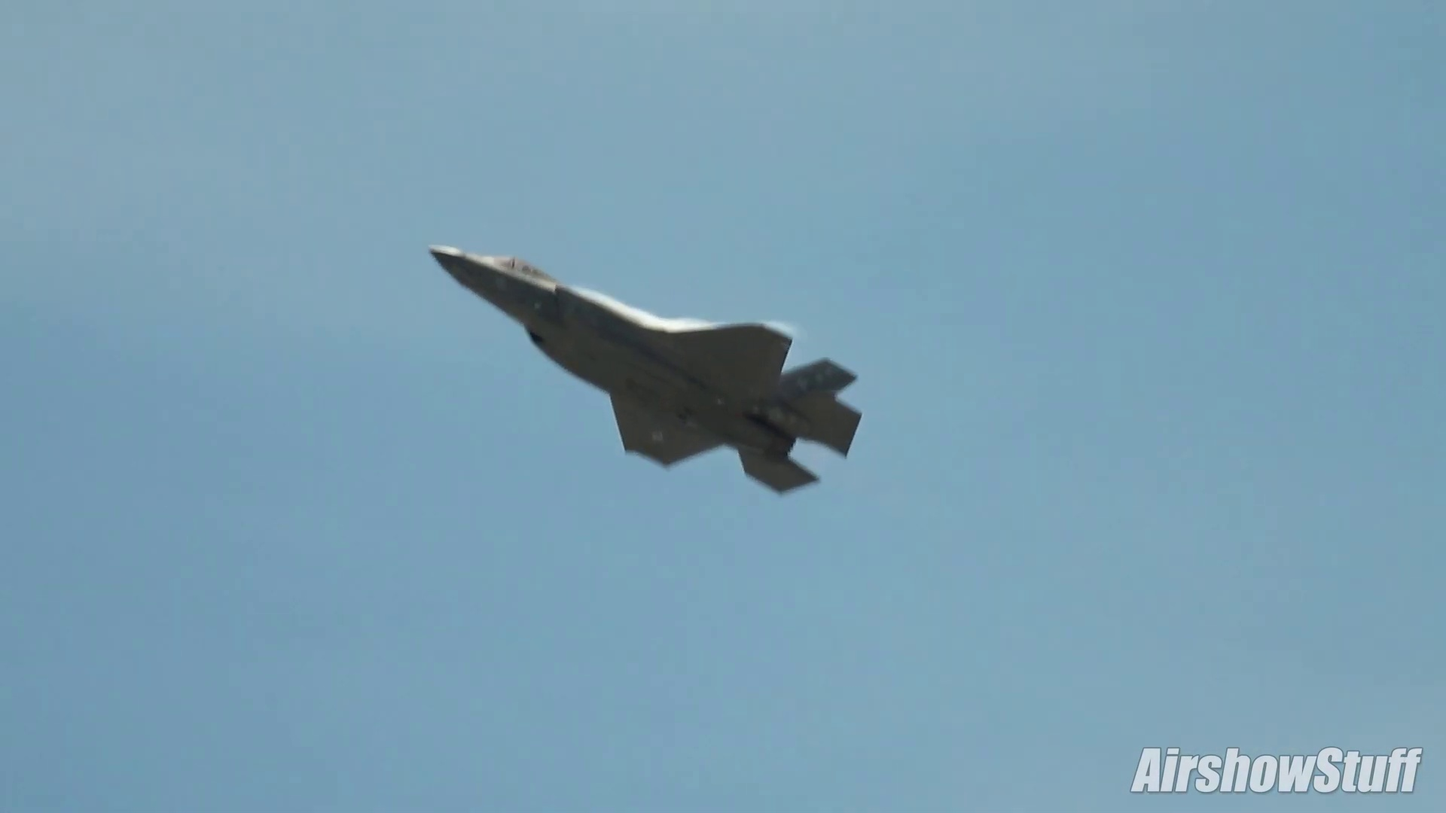F35: (423, 238, 870, 503)
